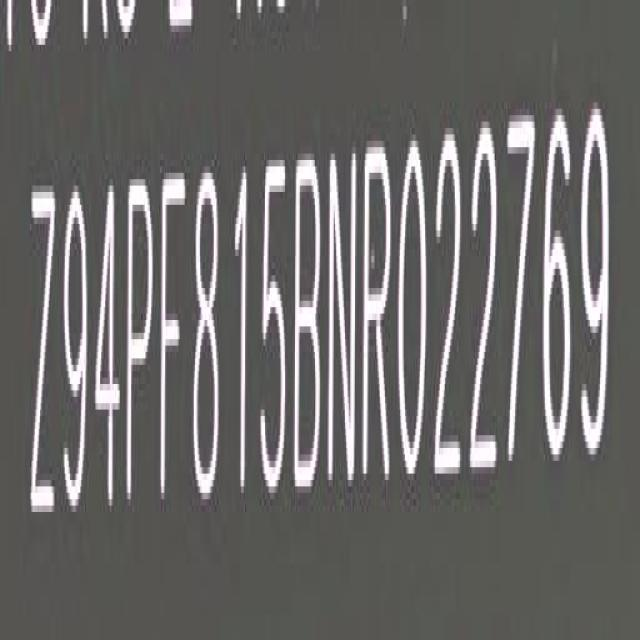0: (398, 127, 430, 487)
1: (231, 159, 252, 509)
2: (468, 116, 501, 483), (432, 123, 463, 488)
4: (96, 182, 123, 524)
5: (258, 147, 292, 507)
6: (543, 105, 576, 472)
7: (507, 102, 540, 476)
8: (194, 166, 224, 509)
9: (582, 104, 612, 466), (64, 182, 90, 527)
B: (294, 146, 325, 499)
F: (159, 164, 187, 515)
N: (328, 143, 360, 496)
P: (128, 170, 156, 517)
R: (363, 136, 395, 492)
Z: (29, 180, 58, 536)
